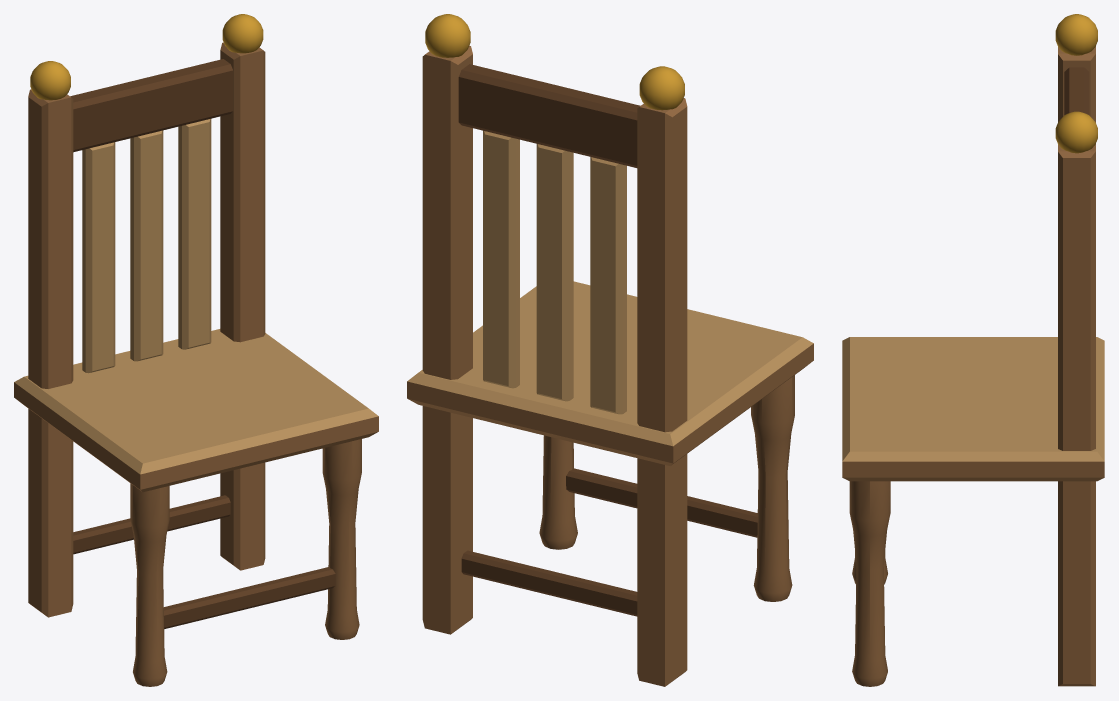
The model's file is Chair_10.glb.
The picture shows the model from 3 angles, left to right: view 1: azimuth 30°, elevation 25°; view 2: azimuth 150°, elevation 25°; view 3: azimuth 270°, elevation 25°; orthographic projection. The views are drawn at different scales.
Parts seen in each view (by area): view 1: Chair_10; view 2: Chair_10; view 3: Chair_10.
Part boxes in pixels (bbox=[...]): Chair_10: bbox=[14, 14, 378, 686]; Chair_10: bbox=[407, 14, 813, 686]; Chair_10: bbox=[842, 14, 1104, 686].
Bounding box in the file's own units: 2.25 × 4.92 × 2.06.
